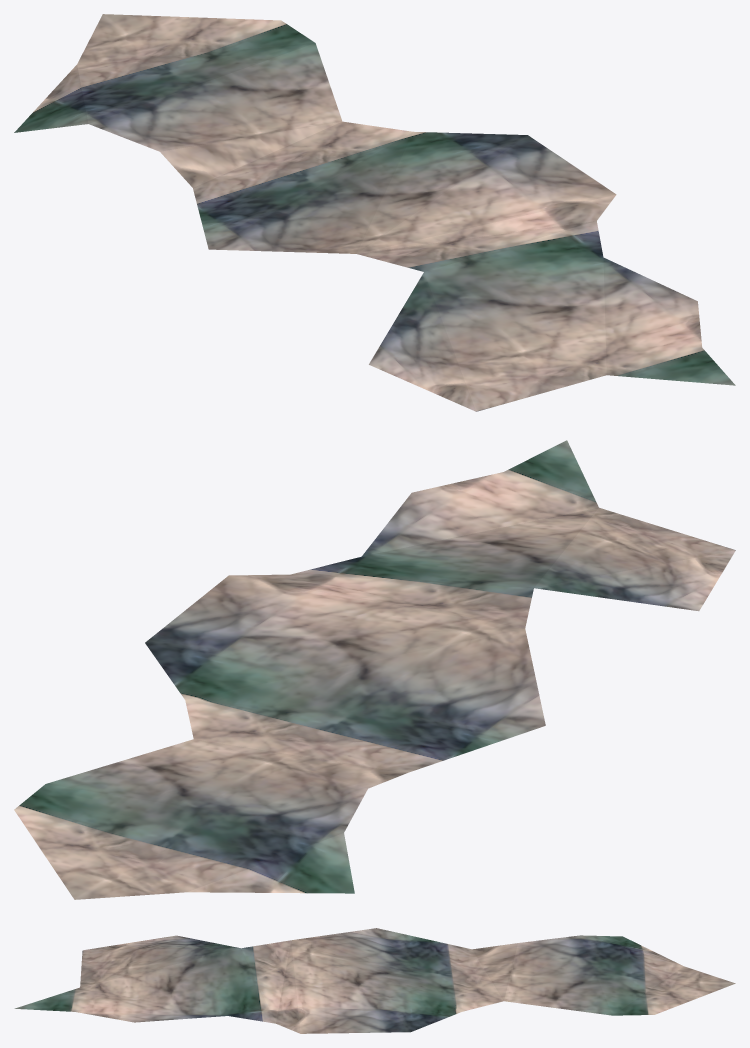
File: Ridge_2_Top.gltf
3 views of the same model, one above another, from view 1: azimuth 30°, elevation 25°; view 2: azimuth 150°, elevation 25°; view 3: azimuth 270°, elevation 25° (orthographic). The views are drawn at different scales.
Parts seen in each view (by area): view 1: Ridge_2_Top; view 2: Ridge_2_Top; view 3: Ridge_2_Top.
Part boxes in pixels (x1,y1,x2,y2): Ridge_2_Top: [14, 14, 735, 411]; Ridge_2_Top: [14, 440, 735, 899]; Ridge_2_Top: [14, 928, 735, 1033].
Size of the model in its own units: 33.69 by 3.75 by 88.32.
Materials: 1 (1 with a texture image).
